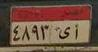3: (40, 23, 49, 41)
4: (11, 22, 21, 42)
8: (21, 24, 31, 42)
9: (31, 23, 39, 42)
alif: (73, 23, 81, 41)
yaa: (58, 26, 71, 40)
